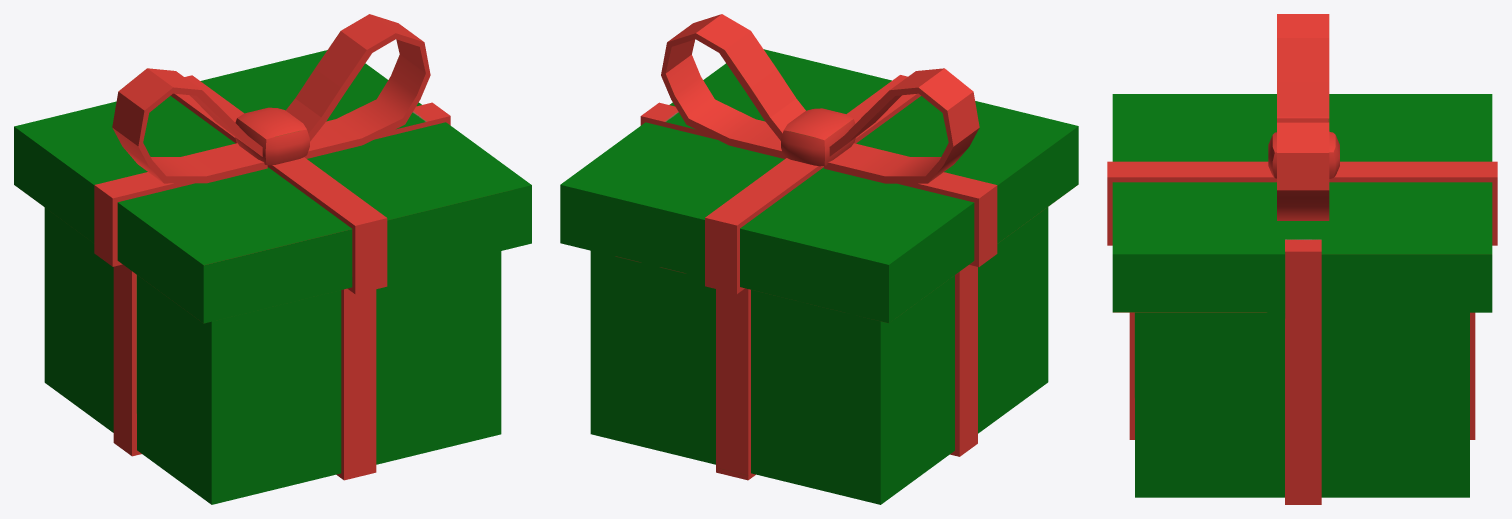
Rendered from presentbox5.fbx.
The picture shows the model from 3 angles, left to right: view 1: azimuth 30°, elevation 25°; view 2: azimuth 150°, elevation 25°; view 3: azimuth 270°, elevation 25°; orthographic projection.
Parts seen in each view (by area): view 1: Box001; view 2: Box001; view 3: Box001.
Part boxes in pixels (x1,y1,x2,y2): Box001: (14, 14, 531, 504); Box001: (560, 14, 1078, 504); Box001: (1107, 14, 1497, 504).
Bounding box in the file's own units: 70 × 71.8 × 70.
